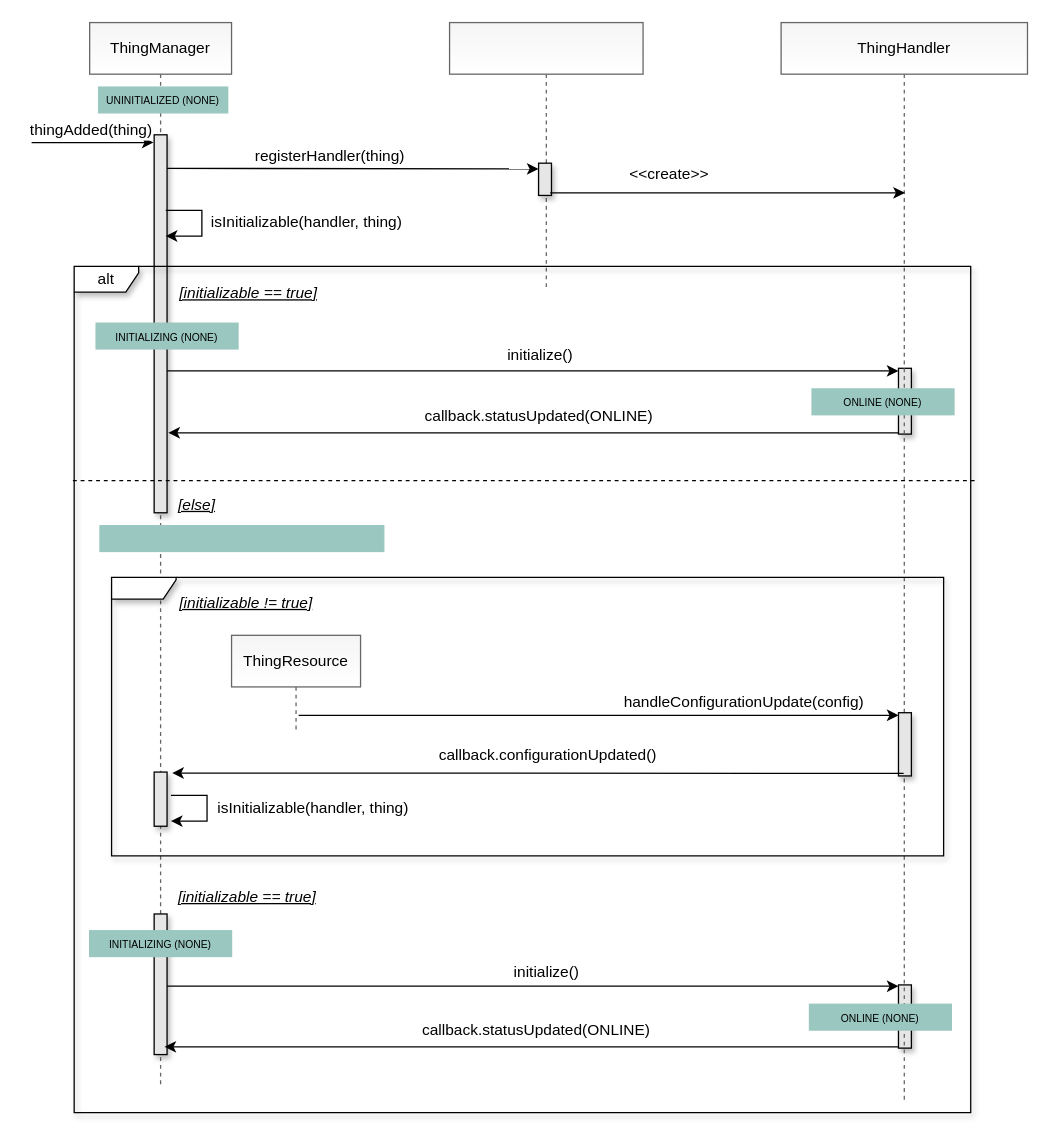
The diagram is 1050 pixels wide and 1144 high, and some of its shapes have lost their labels. The shapes that lost their labels are listed below. From the top down, each one's centre as x and y in pixels, then its label:
(x=545, y=154): ThingHandlerFactory
(x=241, y=537): UNINITIALIZED (HANDLER_CONFIGURATION_PENDING)
(x=528, y=718): loop
